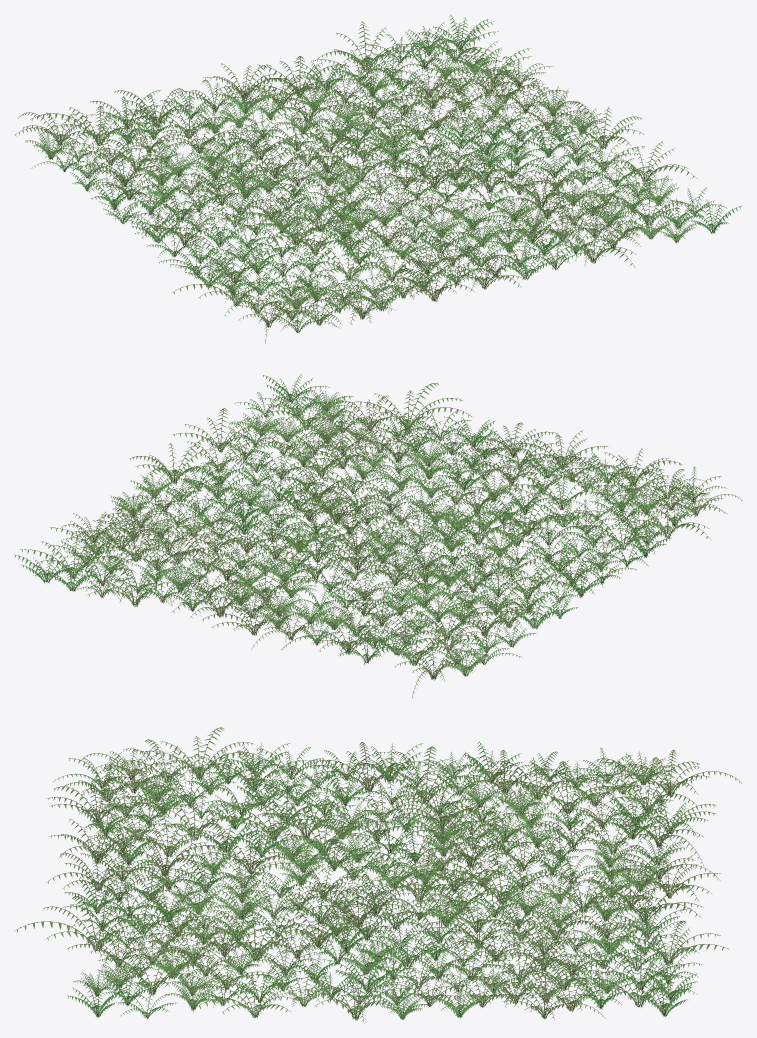
File: fern_scatter.fbx
The picture shows the model from 3 angles, top to bottom: view 1: azimuth 30°, elevation 25°; view 2: azimuth 150°, elevation 25°; view 3: azimuth 270°, elevation 25°; orthographic projection. The views are drawn at different scales.
Parts seen in each view (by area): view 1: fern_3_stem.023, fern_3_stem.045, fern_3_stem.005, fern_3_stem.032, fern_3_stem.001, fern_3_stem.028, fern_3_stem.034, fern_3_stem.004, fern_3_stem.014, fern_3_stem.027, fern_3_stem.006, fern_3_stem.037 (+56 smaller); view 2: fern_3_stem.014, fern_3_stem.032, fern_3_stem.005, fern_3_stem.006, fern_3_stem.023, fern_3_stem.004, fern_3_stem.027, fern_3_stem.041, fern_3_stem.028, fern_3_stem.045, fern_3_stem.001, fern_3_stem.029 (+56 smaller); view 3: fern_3_stem.014, fern_3_stem.032, fern_3_stem.005, fern_3_stem.004, fern_3_stem.045, fern_3_stem.006, fern_3_stem.023, fern_3_stem.028, fern_3_stem.041, fern_3_stem.027, fern_3_stem.001, fern_3_stem.022 (+137 smaller).
Boxes of the visible parts, bbox=[...] form: fern_3_stem.023: bbox=[275, 182, 367, 232]; fern_3_stem.045: bbox=[532, 102, 644, 149]; fern_3_stem.005: bbox=[30, 105, 156, 153]; fern_3_stem.032: bbox=[483, 164, 591, 216]; fern_3_stem.001: bbox=[248, 82, 359, 125]; fern_3_stem.028: bbox=[227, 205, 356, 253]; fern_3_stem.034: bbox=[253, 211, 359, 255]; fern_3_stem.004: bbox=[274, 110, 377, 160]; fern_3_stem.014: bbox=[317, 21, 440, 78]; fern_3_stem.027: bbox=[117, 182, 233, 232]; fern_3_stem.006: bbox=[310, 131, 426, 188]; fern_3_stem.037: bbox=[296, 234, 393, 280]; fern_3_stem.014: bbox=[86, 555, 191, 606]; fern_3_stem.032: bbox=[268, 429, 384, 479]; fern_3_stem.005: bbox=[371, 617, 488, 672]; fern_3_stem.006: bbox=[300, 502, 422, 555]; fern_3_stem.023: bbox=[411, 504, 534, 551]; fern_3_stem.004: bbox=[260, 531, 378, 582]; fern_3_stem.027: bbox=[481, 556, 586, 600]; fern_3_stem.041: bbox=[352, 383, 471, 433]; fern_3_stem.028: bbox=[473, 498, 591, 553]; fern_3_stem.045: bbox=[129, 439, 225, 488]; fern_3_stem.001: bbox=[219, 554, 334, 610]; fern_3_stem.029: bbox=[567, 505, 667, 550]; fern_3_stem.014: bbox=[597, 919, 729, 969]; fern_3_stem.032: bbox=[169, 902, 310, 962]; fern_3_stem.005: bbox=[596, 757, 699, 813]; fern_3_stem.004: bbox=[415, 845, 556, 904]; fern_3_stem.045: bbox=[290, 961, 433, 1023]; fern_3_stem.006: bbox=[346, 851, 469, 901]; fern_3_stem.023: bbox=[272, 799, 409, 864]; fern_3_stem.028: bbox=[255, 782, 358, 838]; fern_3_stem.041: bbox=[14, 896, 146, 950]; fern_3_stem.027: bbox=[346, 746, 482, 804]; fern_3_stem.001: bbox=[528, 855, 648, 912]; fern_3_stem.022: bbox=[559, 953, 687, 1007].
Size of the model in its own units: 9.71 by 0.526 by 10.18.
